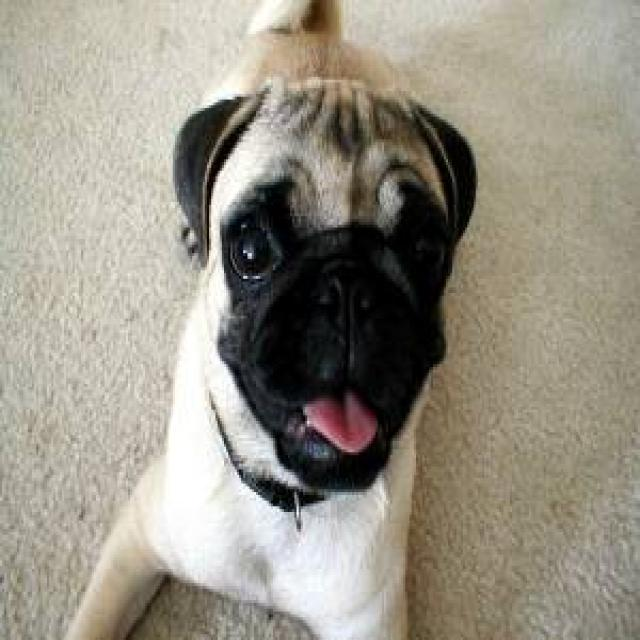dog-pug: (49, 3, 478, 634)
